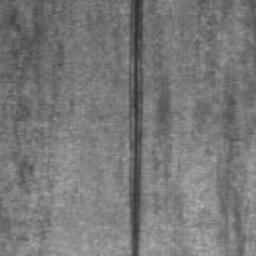Scratches: (127, 0, 144, 256)
